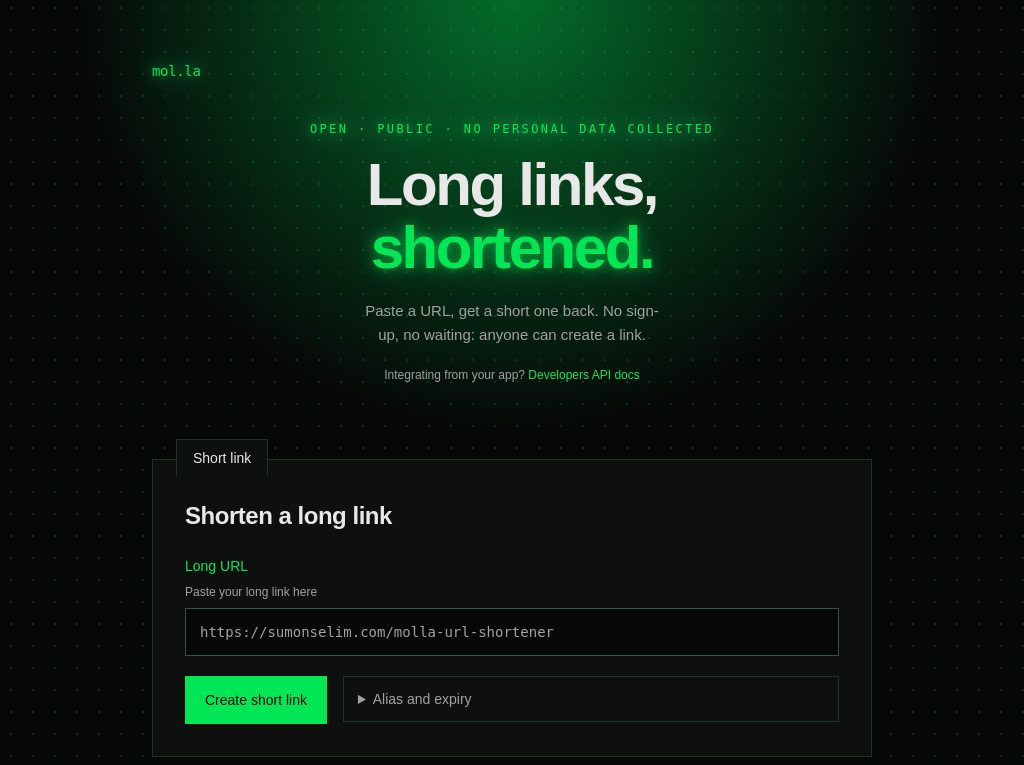
it: CreatePage › renders alias-taken as a specific message
The width and height of the screenshot is (1024, 765).
Type "https://example.com" into the field labelled "Long URL" at [512, 632], box top-left (185, 608), bottom-right (839, 656)
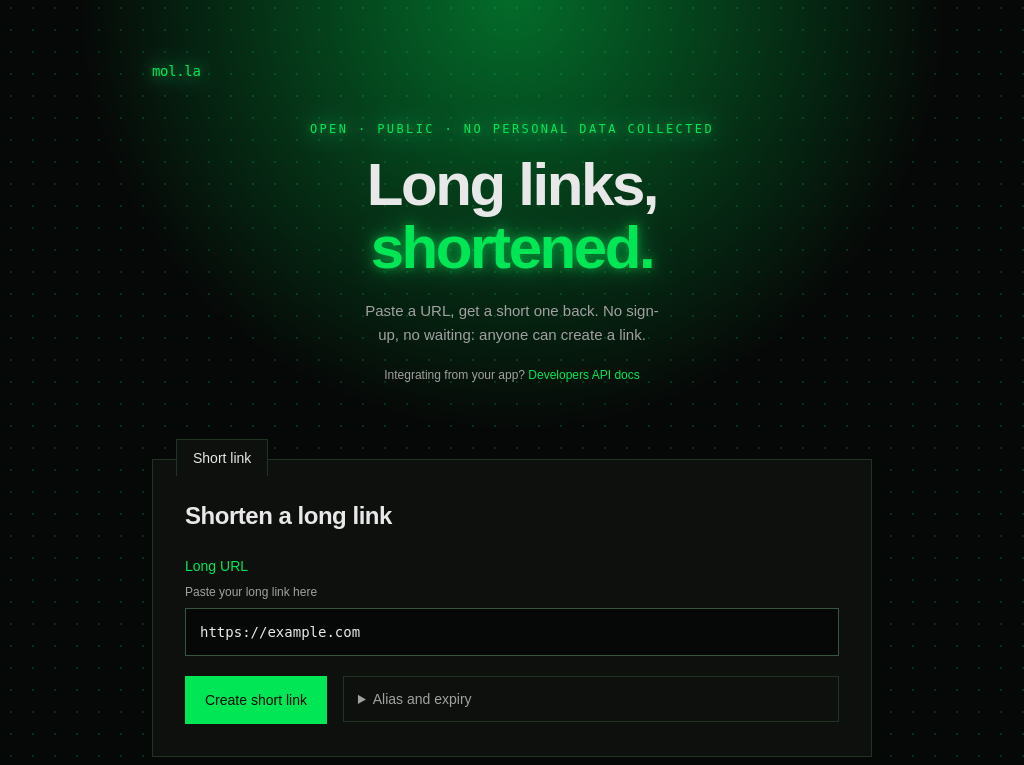
Click the button "Create short link" at [256, 700], box top-left (185, 676), bottom-right (327, 724)
(page scrolled)
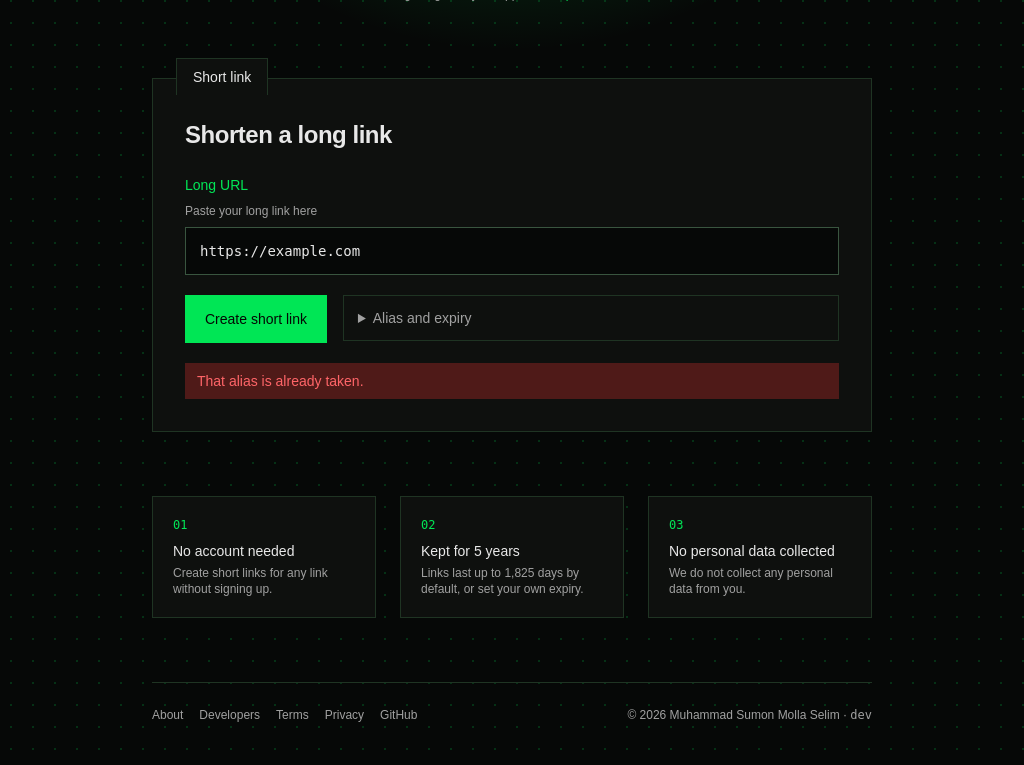
Now the message reads "That alias is already taken.", box top-left (197, 373), bottom-right (364, 389)
